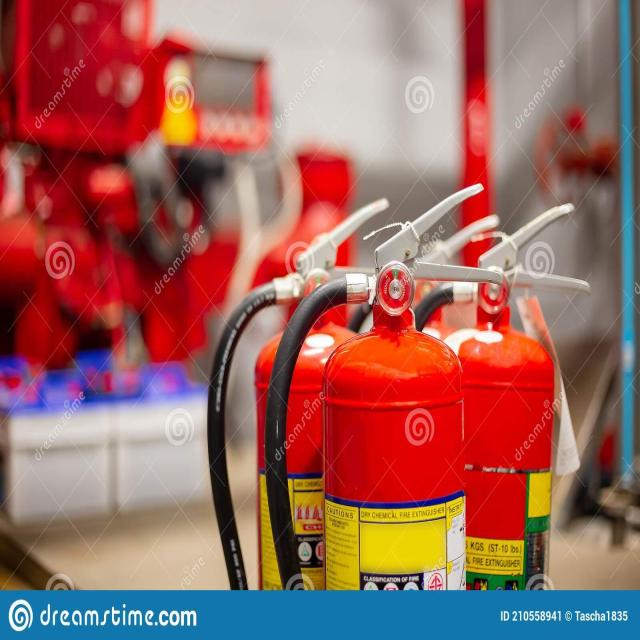fire_extinguisher: (264, 178, 512, 588), (380, 199, 596, 591), (202, 197, 400, 592)
